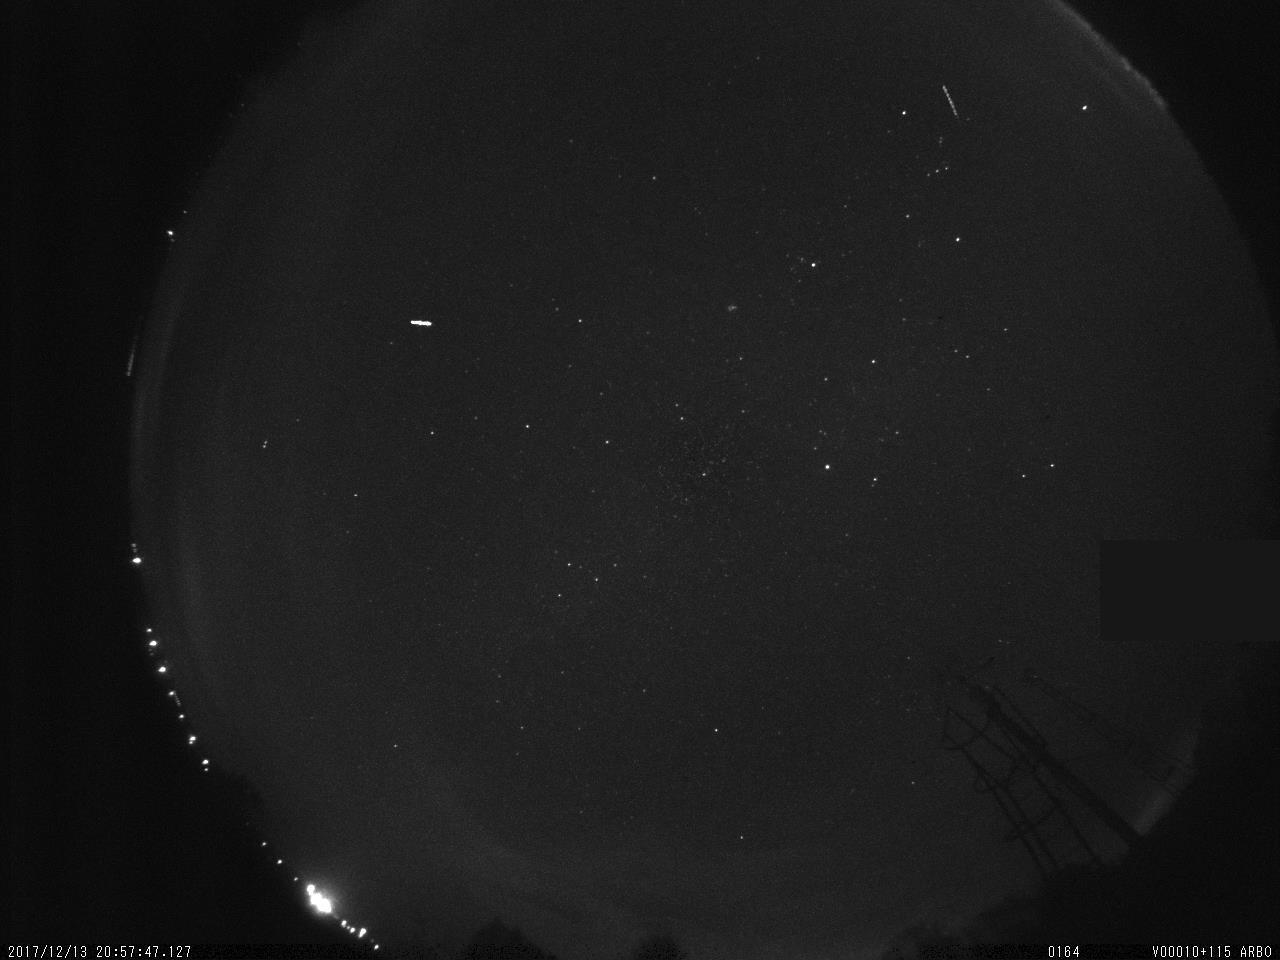satelite: (937, 79, 968, 125), (404, 313, 439, 334)
